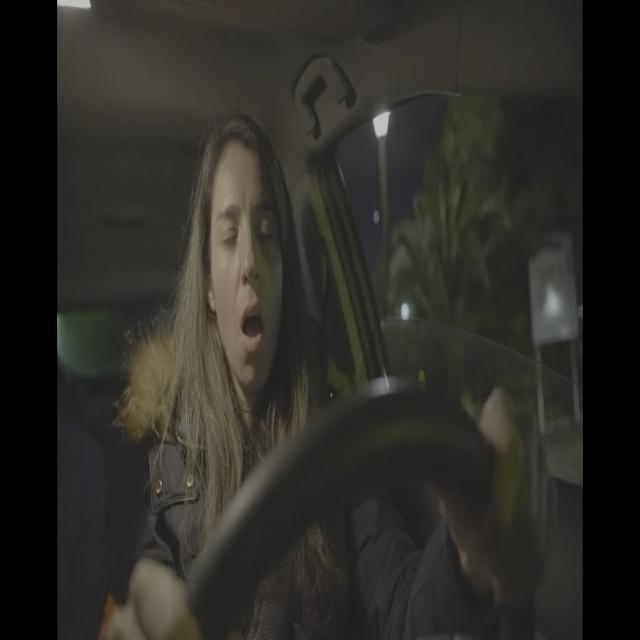open-mouth: (240, 298, 264, 361)
